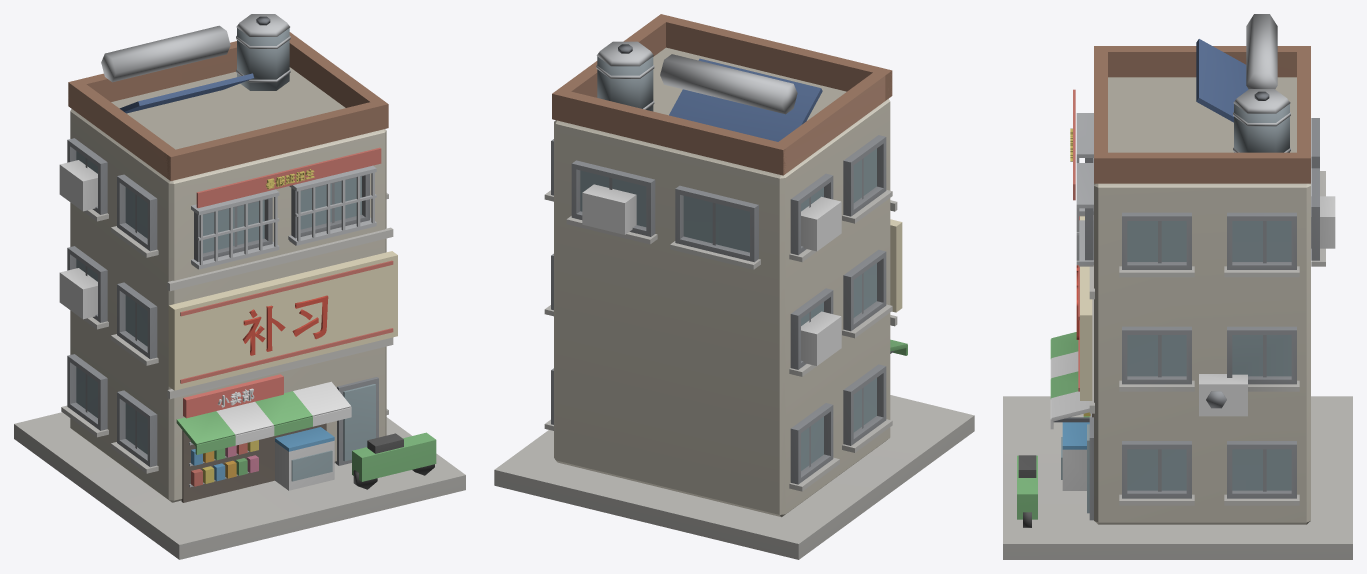
File: tutoring.glb
3 views of the same model, side by side, from view 1: azimuth 30°, elevation 25°; view 2: azimuth 150°, elevation 25°; view 3: azimuth 270°, elevation 25° (orthographic). The views are drawn at different scales.
Visible parts, largest first — view 1: tutoring; view 2: tutoring; view 3: tutoring.
Boxes of the visible parts, x1=… form: tutoring: x1=14, y1=14, x2=465, y2=559; tutoring: x1=494, y1=14, x2=974, y2=559; tutoring: x1=1003, y1=14, x2=1352, y2=559.
Bounding box in the file's own units: 1 × 1.34 × 1.
